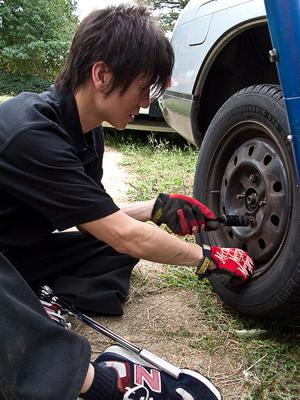person: (1, 7, 255, 400)
